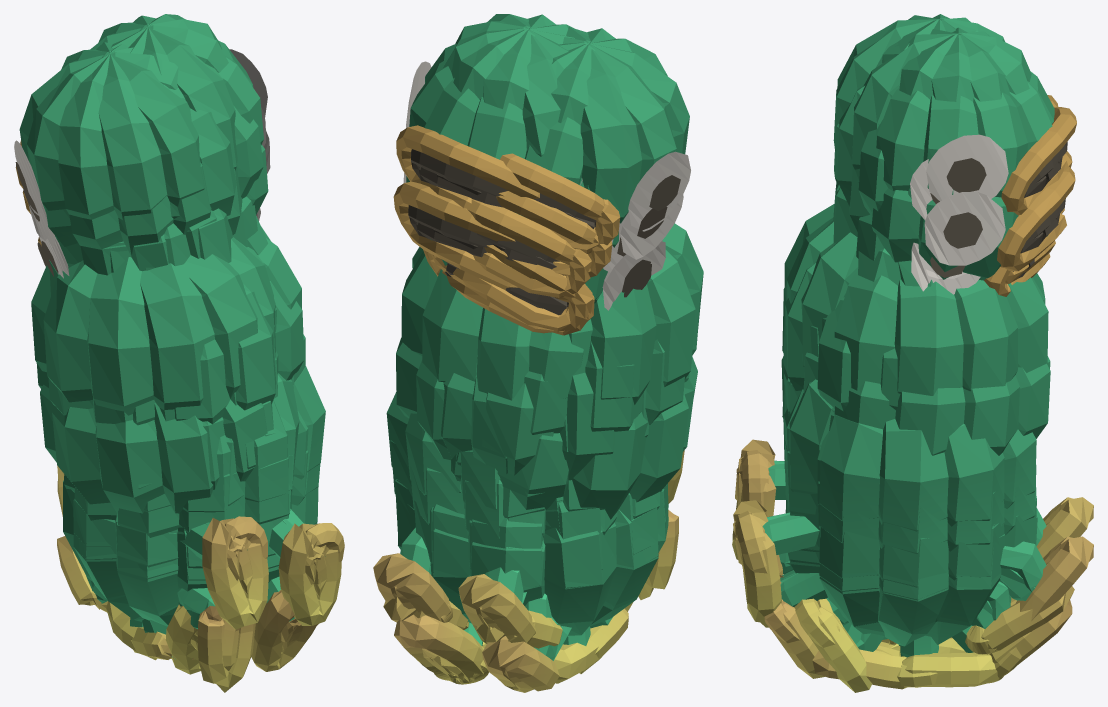
File: fakegreengo.fbx
3 renders of one model, left to right at view 1: azimuth 30°, elevation 25°; view 2: azimuth 150°, elevation 25°; view 3: azimuth 270°, elevation 25°, orthographic. The views are drawn at different scales.
Parts seen in each view (by area): view 1: NewLayer3; view 2: NewLayer3; view 3: NewLayer3.
Part boxes in pixels (x1,y1,x2,y2): NewLayer3: (14,14,344,692); NewLayer3: (373,14,703,692); NewLayer3: (732,14,1093,692).
Size of the model in its own units: 1.8 by 3.9 by 2.05.
